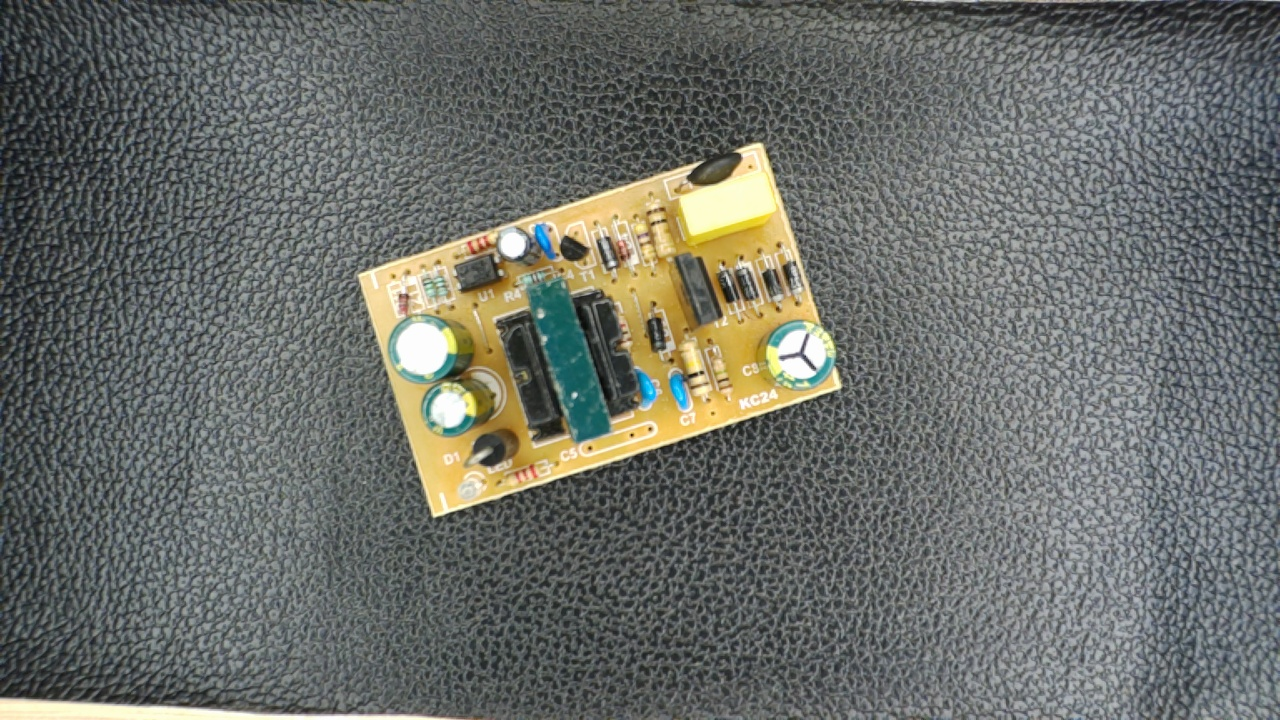fuse: (663, 147, 755, 195)
hv_capacitor: (750, 318, 837, 393)
optocoupler: (444, 254, 509, 294)
